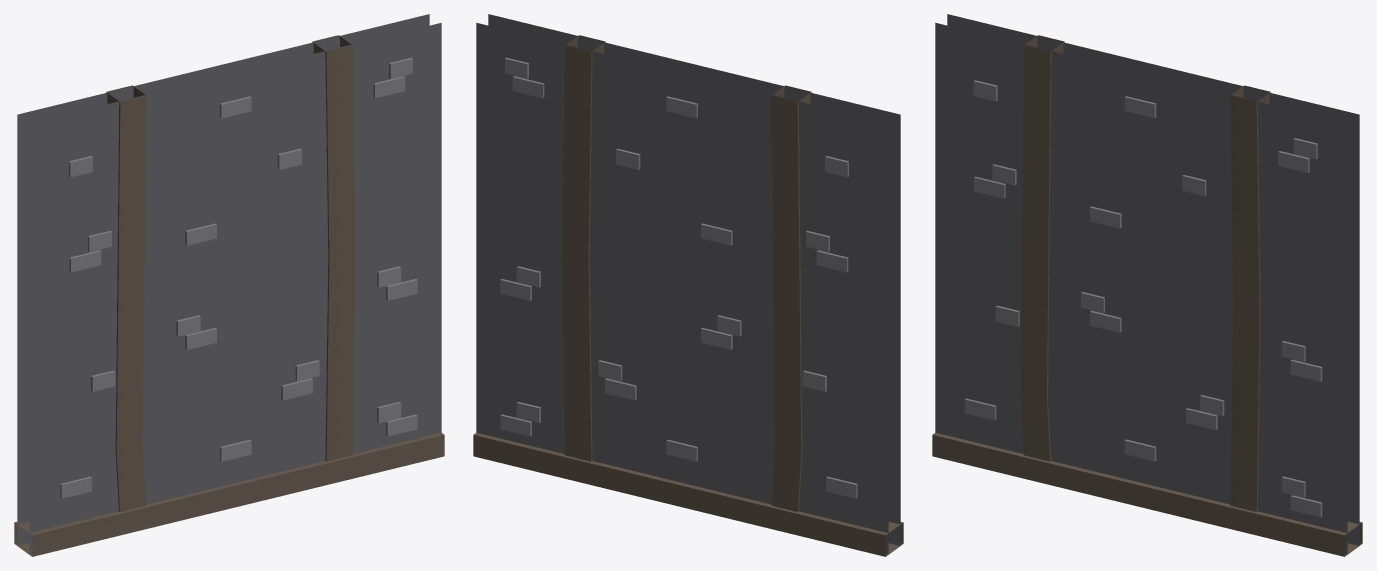
Rendered from Wall_2A.fbx.
3 views of the same model, side by side, from view 1: azimuth 30°, elevation 25°; view 2: azimuth 150°, elevation 25°; view 3: azimuth 330°, elevation 25° (orthographic).
Visible parts, largest first — view 1: pCube768; view 2: pCube768; view 3: pCube768.
Part boxes in pixels (bbox=[...]): pCube768: bbox=[14, 14, 444, 556]; pCube768: bbox=[473, 14, 903, 556]; pCube768: bbox=[932, 14, 1362, 556].
Bounding box in the file's own units: 400 × 400 × 30.
